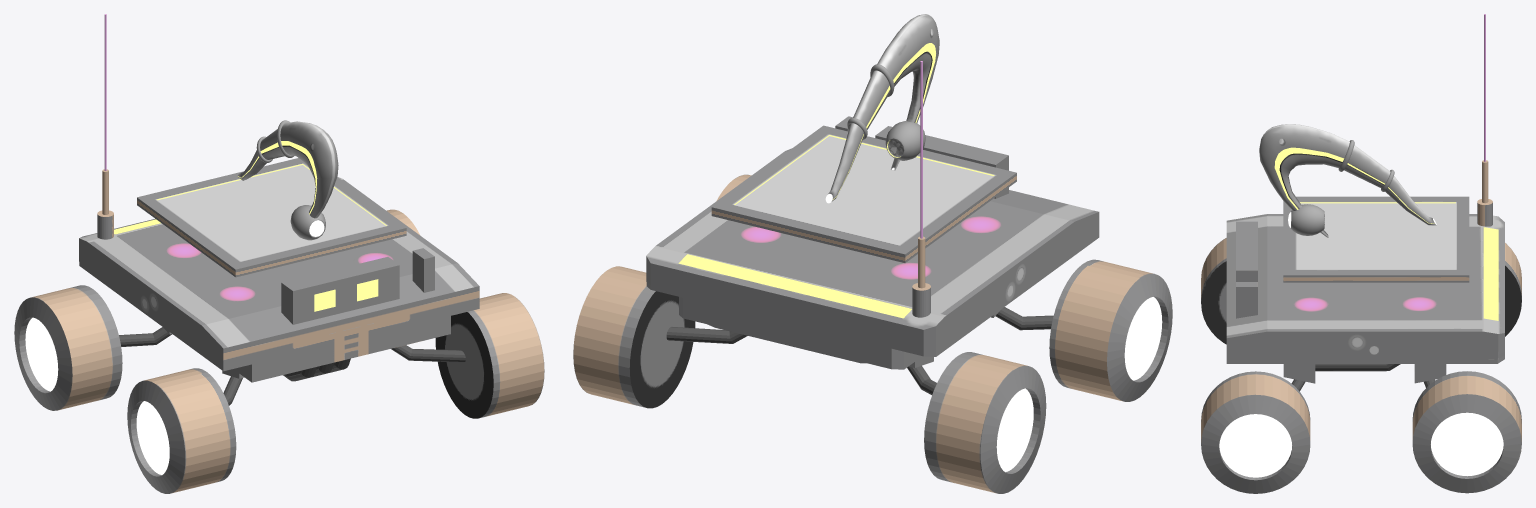
File: SmartCommandRobot.fbx
3 views of the same model, side by side, from view 1: azimuth 30°, elevation 25°; view 2: azimuth 150°, elevation 25°; view 3: azimuth 270°, elevation 25° (orthographic). The views are drawn at different scales.
Visible parts, largest first — view 1: robot_main, frontwheel_right, backwheel_right, frontwheel_left, robot_head; view 2: robot_main, frontwheel_right, backwheel_right, backwheel_left, robot_head; view 3: robot_main, frontwheel_left, backwheel_left, robot_head, frontwheel_right, backwheel_right.
Part boxes in pixels (left/top/right/bottom): robot_main: left=79, top=14, right=479, bottom=405; frontwheel_right: left=127, top=368, right=236, bottom=493; backwheel_right: left=14, top=285, right=122, bottom=410; frontwheel_left: left=435, top=293, right=544, bottom=418; robot_head: left=237, top=120, right=338, bottom=240; robot_main: left=646, top=61, right=1099, bottom=394; frontwheel_right: left=1049, top=259, right=1172, bottom=401; backwheel_right: left=924, top=352, right=1046, bottom=493; backwheel_left: left=573, top=266, right=695, bottom=408; robot_head: left=825, top=14, right=939, bottom=203; robot_main: left=1226, top=14, right=1504, bottom=391; frontwheel_left: left=1201, top=371, right=1310, bottom=493; backwheel_left: left=1412, top=371, right=1521, bottom=493; robot_head: left=1259, top=124, right=1436, bottom=237; frontwheel_right: left=1201, top=238, right=1226, bottom=344; backwheel_right: left=1505, top=243, right=1521, bottom=336.
Bounding box in the file's own units: 209 × 198 × 166.
4 materials, 2 textured.
